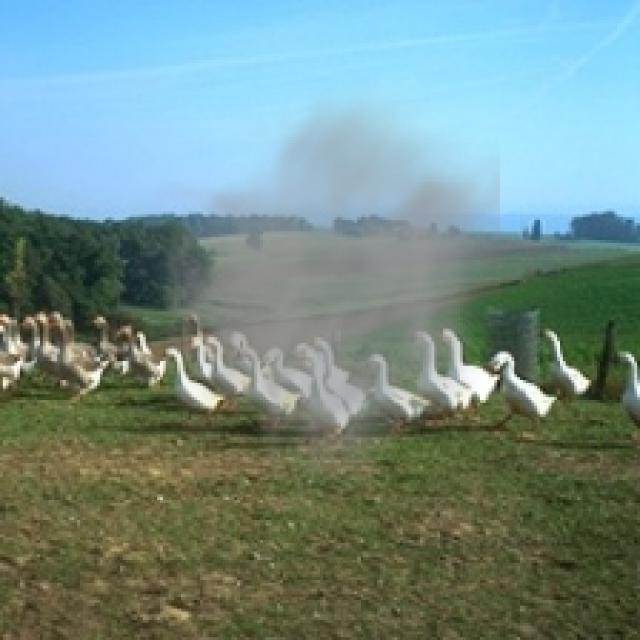Smoke: (126, 77, 500, 497)
